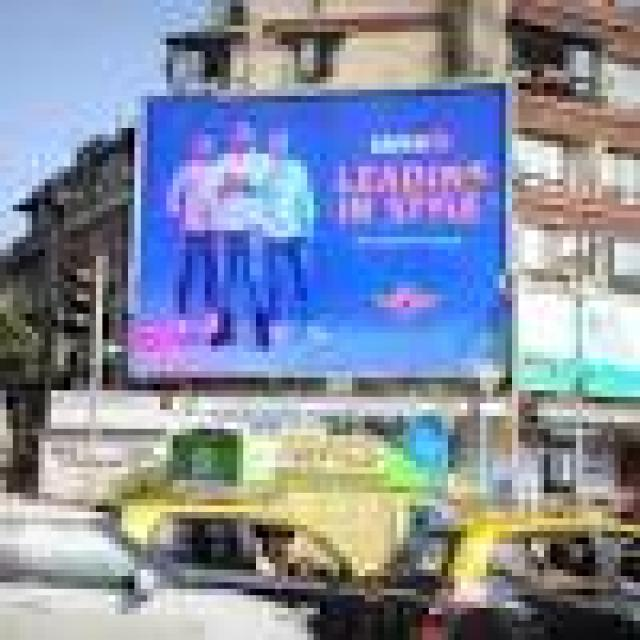Werbetafel frei: (136, 92, 513, 396)
